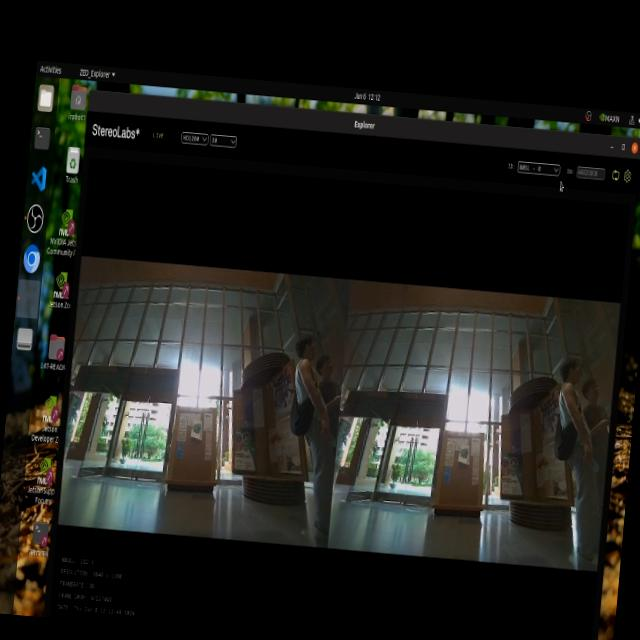green: (188, 414, 202, 440), (464, 448, 474, 460)
